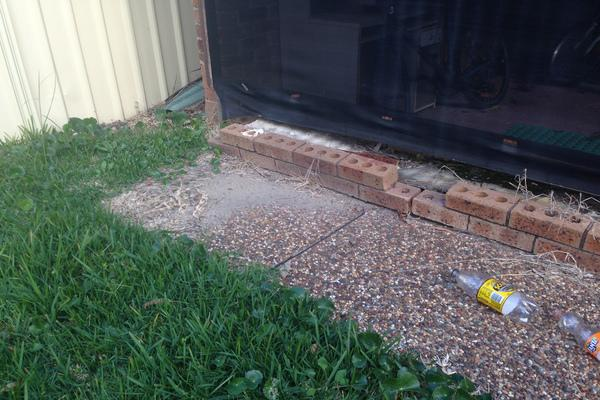Plastic Bottle: (448, 268, 538, 323), (552, 309, 600, 362)
